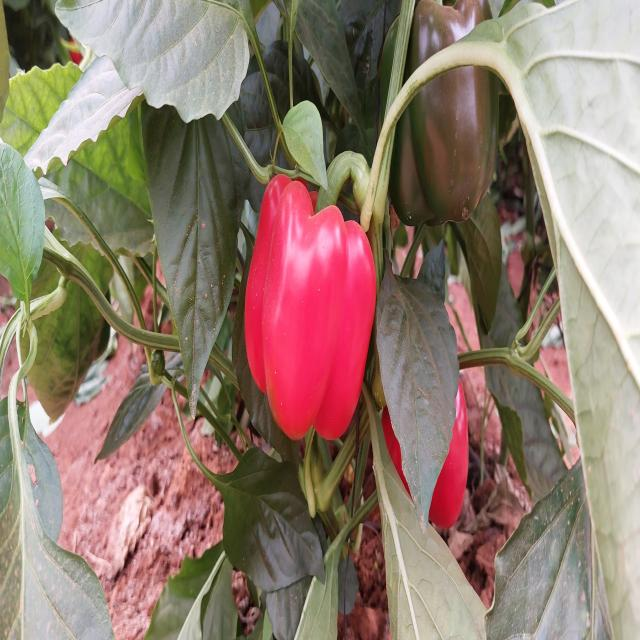BrownishRed--Can-be-Harvested: (376, 5, 482, 227)
Red-Ready-to-Harvest: (240, 172, 379, 436), (387, 390, 486, 534)
